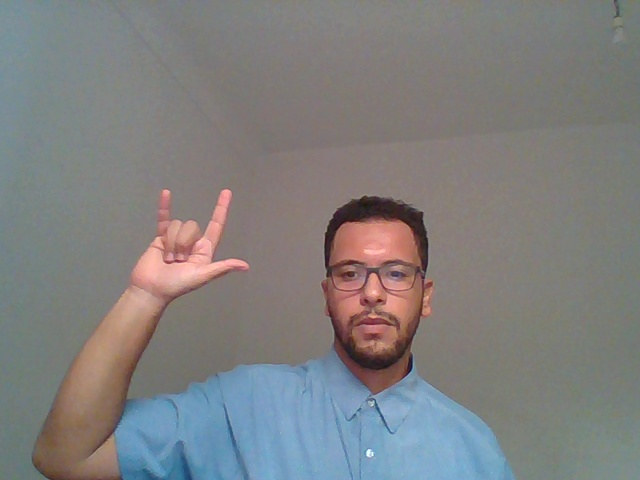iloveyou: (63, 133, 269, 398)
